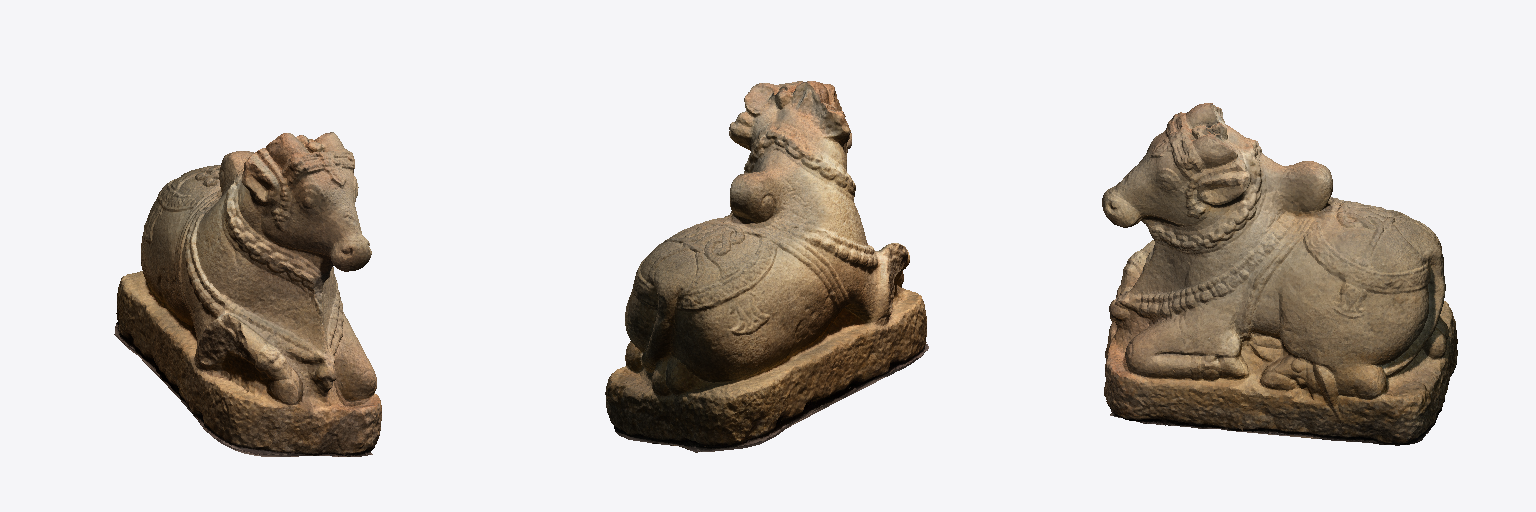
The picture shows the model from 3 angles: view 1: azimuth 30°, elevation 25°; view 2: azimuth 150°, elevation 25°; view 3: azimuth 270°, elevation 25°; orthographic projection.
Visible parts, largest first — view 1: nandi; view 2: nandi; view 3: nandi.
Boxes of the visible parts, <box> form: nandi: <box>114,132,381,456</box>; nandi: <box>605,81,928,452</box>; nandi: <box>1102,103,1457,445</box>.
Size of the model in its own units: 3.15 by 4.59 by 4.94.
1 materials, 1 textured.